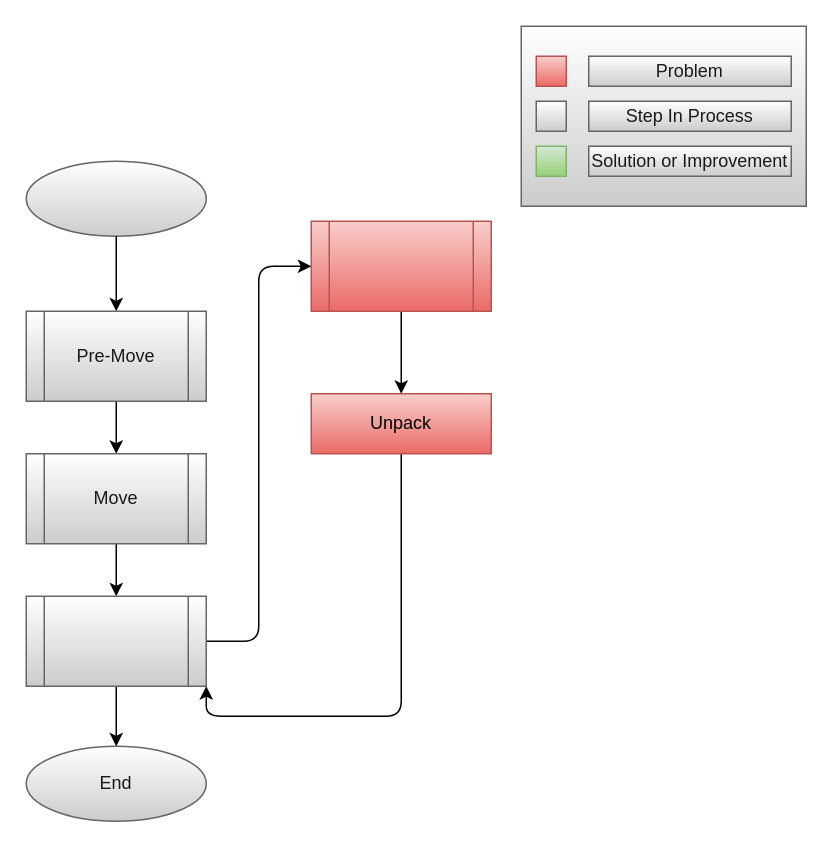
The diagram is 833 pixels wide and 848 high, and some of its shapes have lost their labels. The centre of each missing label's shape, as x and y in pixels:
Post Move: the point at 115,640
Return the Truck to Rental Company: the point at 400,265
Start: the point at 115,198
